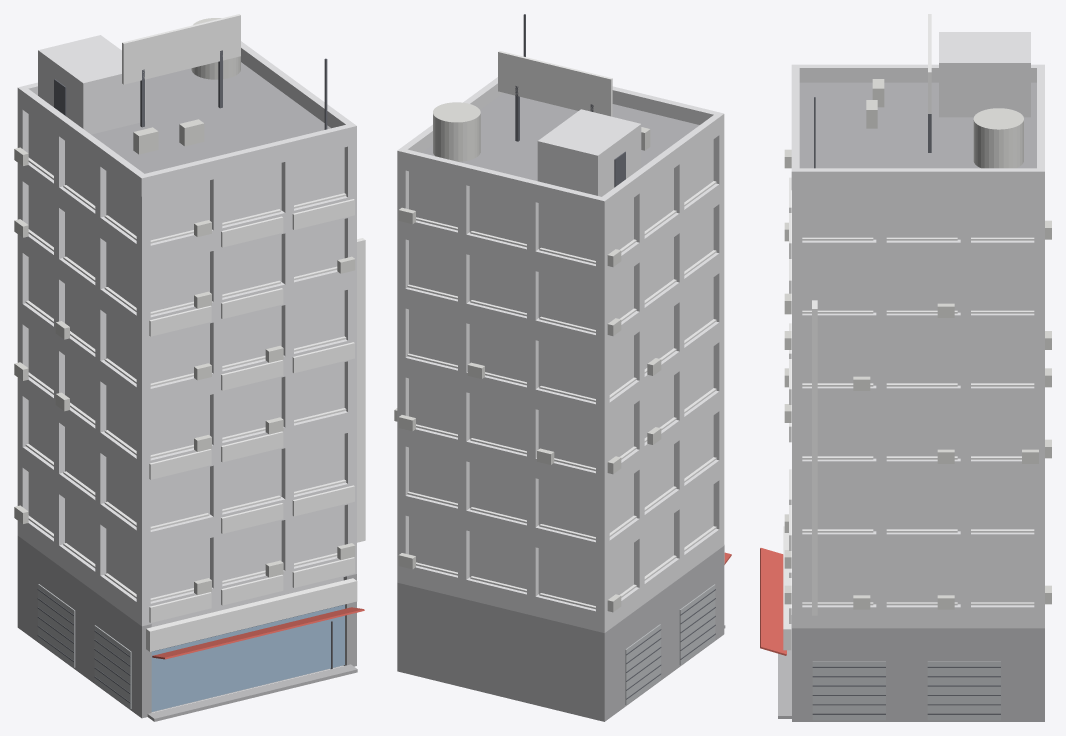
Rendered from bldg_5.glb.
3 views of the same model, side by side, from view 1: azimuth 30°, elevation 25°; view 2: azimuth 150°, elevation 25°; view 3: azimuth 270°, elevation 25° (orthographic). The views are drawn at different scales.
Parts seen in each view (by area): view 1: building; view 2: building; view 3: building.
Part boxes in pixels (x1,y1,x2,y2): building: [14, 14, 365, 721]; building: [394, 14, 731, 721]; building: [760, 14, 1051, 721].
Bounding box in the file's own units: 12.26 × 30 × 12.69.
